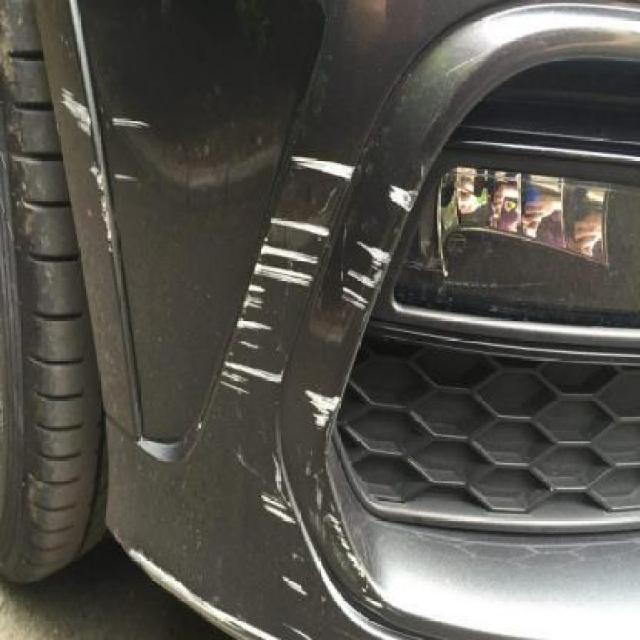scratch: (200, 155, 425, 640), (51, 77, 157, 288), (119, 539, 198, 619)
